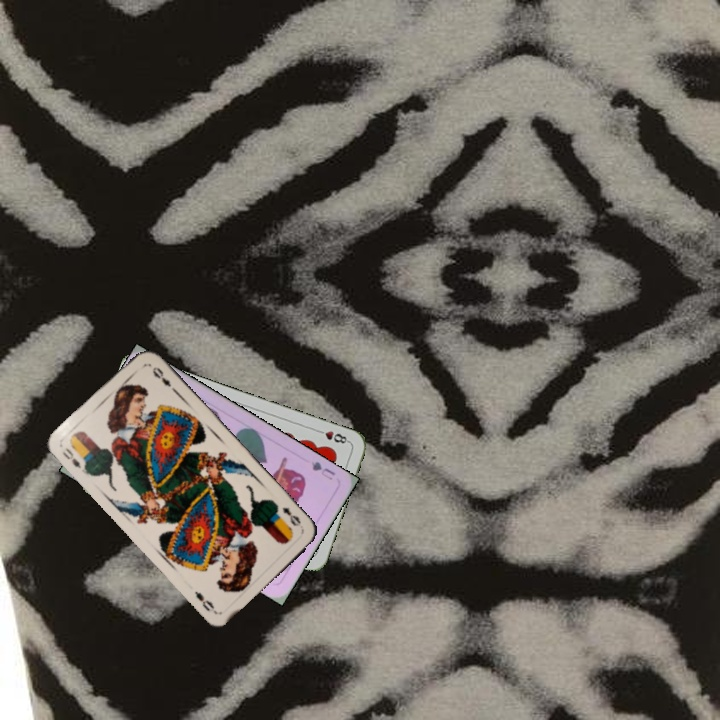EO: (58, 441, 90, 476), (278, 503, 306, 532)
GU: (307, 457, 338, 483)
H8: (312, 426, 352, 446)
